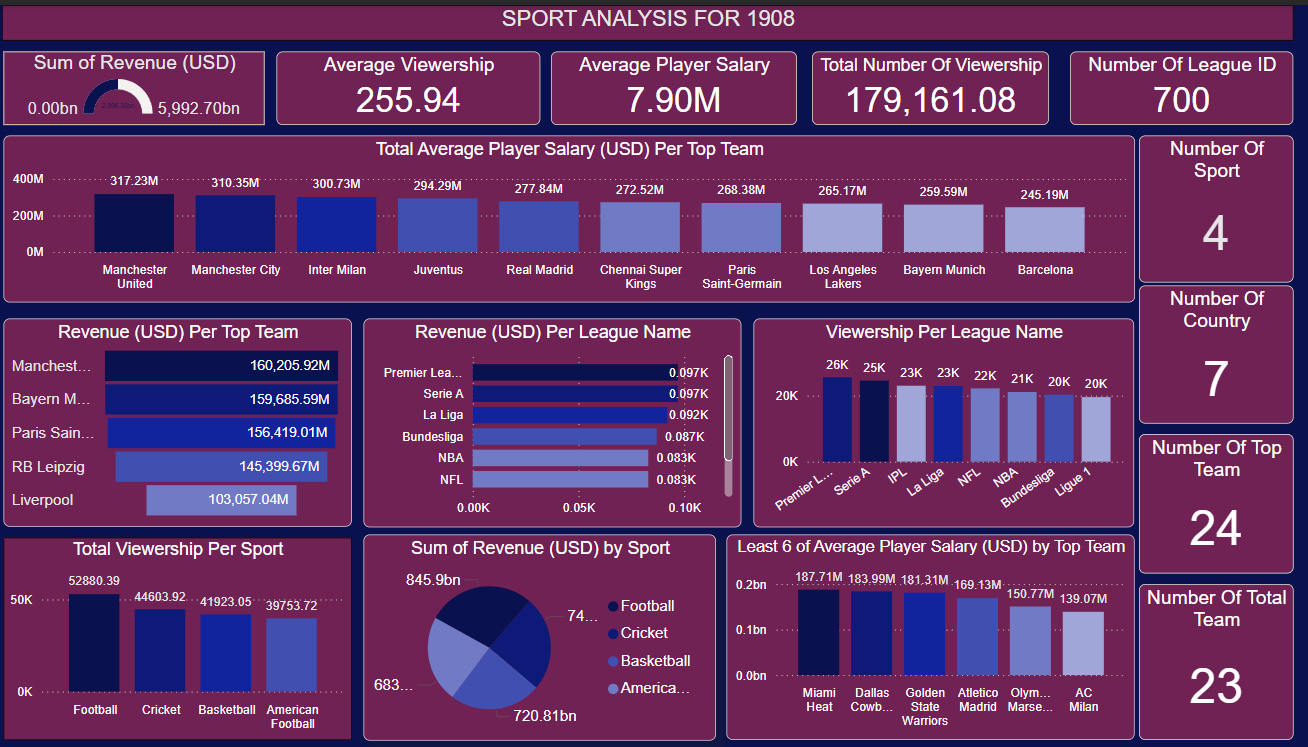

Layout of this report page (visuals, bound fields, positions):
{"tool":"powerbi","page":{"name":"Page 1","canvas":[1280,720],"ordinal":0},"visuals":[{"type":"textbox","title":"SPORT ANALYSIS FOR 1908","box":[8.7,0,1253.2,34.9],"z":0},{"type":"clusteredBarChart","title":" Revenue (USD) Per League Name","fields":{"Category":["top_expensive_leagues.League Name"],"Y":["Count(top_expensive_leagues.Revenue (USD))"]},"box":[358.9,304.4,366.4,202.9],"z":1000},{"type":"clusteredColumnChart","title":"Viewership Per League Name","fields":{"Category":["top_expensive_leagues.League Name"],"Y":["Sum(top_expensive_leagues.Viewership)"]},"box":[737.4,304.4,369.5,202.9],"z":2000},{"type":"gauge","fields":{"Y":["Sum(top_expensive_leagues.Revenue (USD))"]},"box":[10.2,45.1,253.3,71.3],"z":3000},{"type":"funnel","title":"Revenue (USD) Per Top Team","fields":{"Category":["top_expensive_leagues.Top Team"],"Y":["Sum(top_expensive_leagues.Revenue (USD))"]},"box":[10.2,304.2,337.7,202.3],"z":4000},{"type":"lineStackedColumnComboChart","title":"Total Viewership Per Sport","fields":{"Category":["top_expensive_leagues.Sport"],"Y":["Sum(top_expensive_leagues.Viewership)"]},"box":[10.2,516.7,337.7,196.5],"z":5000},{"type":"pieChart","fields":{"Category":["top_expensive_leagues.Sport"],"Y":["Sum(top_expensive_leagues.Revenue (USD))"]},"box":[358.9,513.3,342.2,199.9],"z":6000},{"type":"lineStackedColumnComboChart","title":"Least 6 of Average Player Salary (USD) by Top Team","fields":{"Category":["top_expensive_leagues.Top Team"],"Y":["Sum(top_expensive_leagues.Average Player Salary (USD))"]},"box":[711.8,513.8,395.9,199.4],"z":7000},{"type":"columnChart","title":"Total Average Player Salary (USD) Per Top Team","fields":{"Y":["Sum(top_expensive_leagues.Average Player Salary (USD))"],"Category":["top_expensive_leagues.Top Team"]},"box":[10.6,127.2,1097.8,162],"z":8000},{"type":"card","title":"Total Number Of Viewership","fields":{"Values":["Sum(top_expensive_leagues.Viewership)"]},"box":[794.7,45.1,230,71.3],"z":9000},{"type":"card","title":"Number Of Country","fields":{"Values":["Count(top_expensive_leagues.Country)"]},"box":[1112,272.2,149.9,133.9],"z":10000},{"type":"card","title":"Number Of Top Team","fields":{"Values":["Count(top_expensive_leagues.Top Team)"]},"box":[1112,416.3,149.9,135.4],"z":11000},{"type":"card","title":"Number Of Total Team","fields":{"Values":["Count(top_expensive_leagues.Total Teams)"]},"box":[1112,561.8,149.9,151.4],"z":12000},{"type":"card","title":"Average Viewership","fields":{"Values":["Avg(top_expensive_leagues.Viewership)"]},"box":[275.1,45.1,256.2,71.3],"z":13000},{"type":"card","title":"Average Player Salary","fields":{"Values":["Avg(top_expensive_leagues.Average Player Salary (USD))"]},"box":[541.5,45.1,238.7,71.3],"z":14000},{"type":"card","title":"Number Of Sport","fields":{"Values":["Count(top_expensive_leagues.Sport)"]},"box":[1112,126.6,149.9,142.6],"z":15000},{"type":"card","title":"Number Of League ID","fields":{"Values":["Count(top_expensive_leagues.League ID)"]},"box":[1045.1,45.1,216.9,71.3],"z":16000}]}

Visuals, with their boxes in screenshot pixels (x1, y1, x2, y2), scaled from the page's 1280x720 canvas onto the 1308x747 screenshot:
"SPORT ANALYSIS FOR 1908" textbox: 9/0/1290/36
" Revenue (USD) Per League Name" clusteredBarChart: 367/316/741/526
"Viewership Per League Name" clusteredColumnChart: 754/316/1131/526
gauge - Sum(top_expensive_leagues.Revenue (USD)): 10/47/269/121
"Revenue (USD) Per Top Team" funnel: 10/316/356/525
"Total Viewership Per Sport" lineStackedColumnComboChart: 10/536/356/740
pieChart - top_expensive_leagues.Sport x Sum(top_expensive_leagues.Revenue (USD)): 367/533/716/740
"Least 6 of Average Player Salary (USD) by Top Team" lineStackedColumnComboChart: 727/533/1132/740
"Total Average Player Salary (USD) Per Top Team" columnChart: 11/132/1133/300
"Total Number Of Viewership" card: 812/47/1047/121
"Number Of Country" card: 1136/282/1290/421
"Number Of Top Team" card: 1136/432/1290/572
"Number Of Total Team" card: 1136/583/1290/740
"Average Viewership" card: 281/47/543/121
"Average Player Salary" card: 553/47/797/121
"Number Of Sport" card: 1136/131/1290/279
"Number Of League ID" card: 1068/47/1290/121
